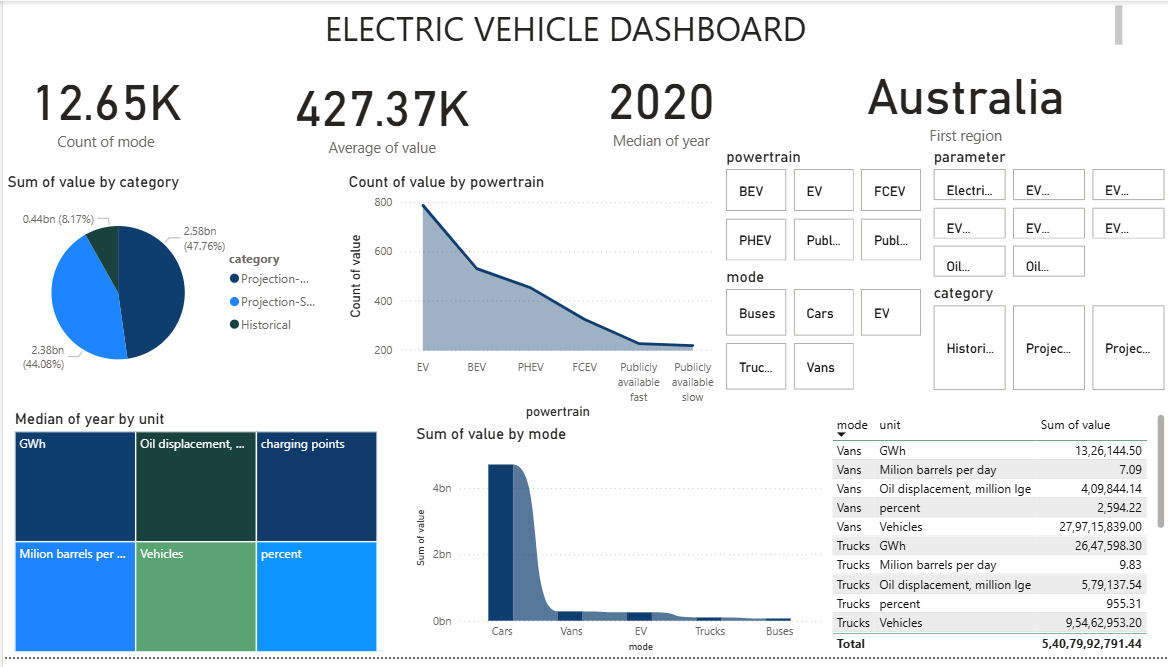

The dashboard page shown, as its layout file describes it:
{"tool":"powerbi","page":{"name":"Page 1","canvas":[1280,720],"ordinal":0},"visuals":[{"type":"textbox","box":[9.6,0,1224,56.3],"z":0},{"type":"pieChart","fields":{"Y":["Sum(IEA Global EV Data 2024.value)"],"Category":["IEA Global EV Data 2024.category"]},"box":[0,188,358.1,245.6],"z":1},{"type":"treemap","fields":{"Group":["IEA Global EV Data 2024.unit"],"Values":["Median(IEA Global EV Data 2024.year)"]},"box":[8.6,449,407.7,270.8],"z":2},{"type":"areaChart","fields":{"Category":["IEA Global EV Data 2024.powertrain"],"Y":["Count(IEA Global EV Data 2024.value)"]},"box":[374.6,188,414.4,275.8],"z":3},{"type":"ribbonChart","fields":{"Category":["IEA Global EV Data 2024.mode"],"Y":["Sum(IEA Global EV Data 2024.value)"]},"box":[449,464.7,454.7,255.1],"z":4},{"type":"card","fields":{"Values":["CountNonNull(IEA Global EV Data 2024.mode)"]},"box":[0,55.6,226.6,119.7],"z":5},{"type":"card","fields":{"Values":["Avg(IEA Global EV Data 2024.value)"]},"box":[287.9,55.6,256.6,131.1],"z":6},{"type":"card","fields":{"Values":["Median(IEA Global EV Data 2024.year)"]},"box":[568.7,54.2,309.3,121.2],"z":7},{"type":"card","fields":{"Values":["Min(IEA Global EV Data 2024.region)"]},"box":[879.5,55.6,354.9,105.5],"z":8},{"type":"advancedSlicerVisual","fields":{"Values":["IEA Global EV Data 2024.category"]},"box":[1016.3,310.7,263.7,122.6],"z":9},{"type":"tableEx","fields":{"Values":["IEA Global EV Data 2024.mode","IEA Global EV Data 2024.unit","Sum(IEA Global EV Data 2024.value)"]},"box":[903.7,449,376.3,270.8],"z":10},{"type":"advancedSlicerVisual","fields":{"Values":["IEA Global EV Data 2024.mode"]},"box":[789.7,292.2,226.6,141.1],"z":11},{"type":"advancedSlicerVisual","fields":{"Values":["IEA Global EV Data 2024.parameter"]},"box":[1016.3,161.1,263.7,149.7],"z":12},{"type":"advancedSlicerVisual","fields":{"Values":["IEA Global EV Data 2024.powertrain"]},"box":[789.7,161.1,226.6,131.1],"z":13}]}

Visuals, with their boxes in screenshot pixels (x1, y1, x2, y2), scaled from the page's 1280x720 canvas onto the 1168x667 screenshot:
textbox: bbox(9, 0, 1126, 52)
pieChart - Sum(IEA Global EV Data 2024.value) x IEA Global EV Data 2024.category: bbox(0, 174, 327, 402)
treemap - IEA Global EV Data 2024.unit x Median(IEA Global EV Data 2024.year): bbox(8, 416, 380, 666)
areaChart - IEA Global EV Data 2024.powertrain x Count(IEA Global EV Data 2024.value): bbox(342, 174, 720, 430)
ribbonChart - IEA Global EV Data 2024.mode x Sum(IEA Global EV Data 2024.value): bbox(410, 430, 825, 666)
card - CountNonNull(IEA Global EV Data 2024.mode): bbox(0, 52, 207, 162)
card - Avg(IEA Global EV Data 2024.value): bbox(263, 52, 497, 173)
card - Median(IEA Global EV Data 2024.year): bbox(519, 50, 801, 162)
card - Min(IEA Global EV Data 2024.region): bbox(803, 52, 1126, 149)
advancedSlicerVisual - IEA Global EV Data 2024.category: bbox(927, 288, 1167, 401)
tableEx - IEA Global EV Data 2024.mode x IEA Global EV Data 2024.unit: bbox(825, 416, 1167, 666)
advancedSlicerVisual - IEA Global EV Data 2024.mode: bbox(721, 271, 927, 401)
advancedSlicerVisual - IEA Global EV Data 2024.parameter: bbox(927, 149, 1167, 288)
advancedSlicerVisual - IEA Global EV Data 2024.powertrain: bbox(721, 149, 927, 271)
